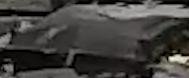bag: (2, 4, 185, 72)
